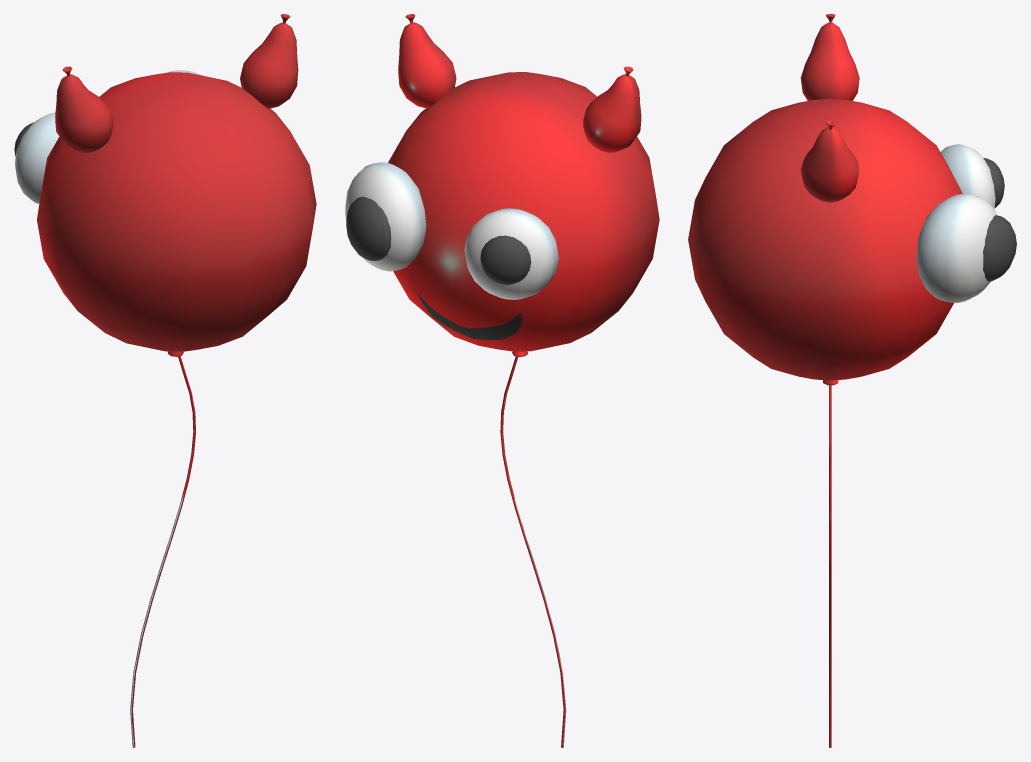
The model's file is quai_nho2.fbx.
3 views of the same model, side by side, from view 1: azimuth 30°, elevation 25°; view 2: azimuth 150°, elevation 25°; view 3: azimuth 270°, elevation 25° (orthographic).
Visible parts, largest first — view 1: quainho_2; view 2: quainho_2; view 3: quainho_2.
Boxes of the visible parts, <box> form: quainho_2: <box>14,14,316,747</box>; quainho_2: <box>345,14,659,747</box>; quainho_2: <box>688,14,1016,747</box>.
Bounding box in the file's own units: 200 × 544 × 231.
1 material, 1 textured.
